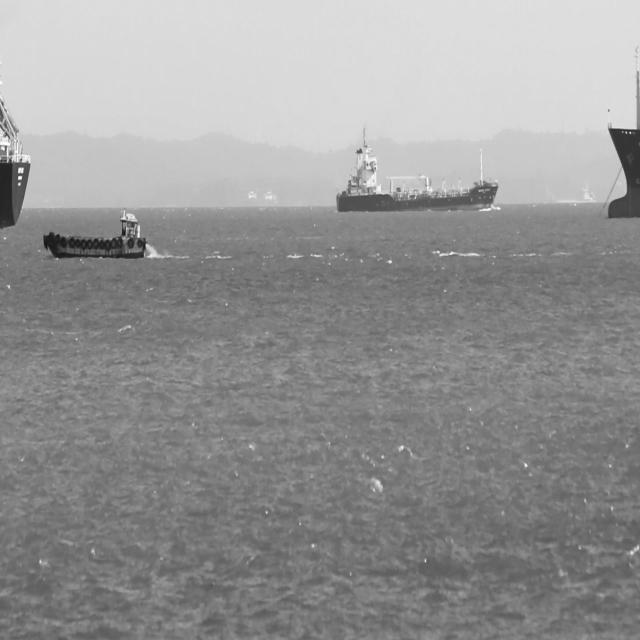ship: (334, 125, 497, 215), (607, 44, 640, 218), (42, 210, 149, 260), (0, 94, 31, 227)
